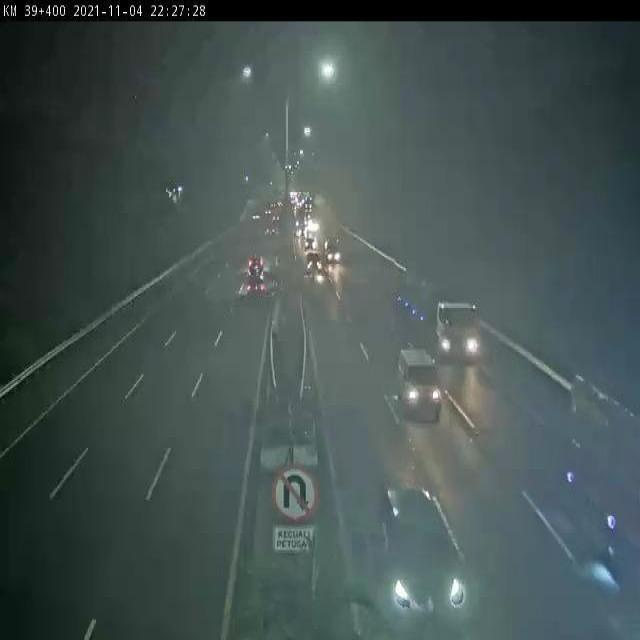car: (379, 485, 466, 623), (394, 348, 444, 419), (244, 272, 264, 297), (246, 255, 264, 281), (305, 249, 321, 272)
truck: (392, 269, 480, 363), (323, 237, 341, 264)
